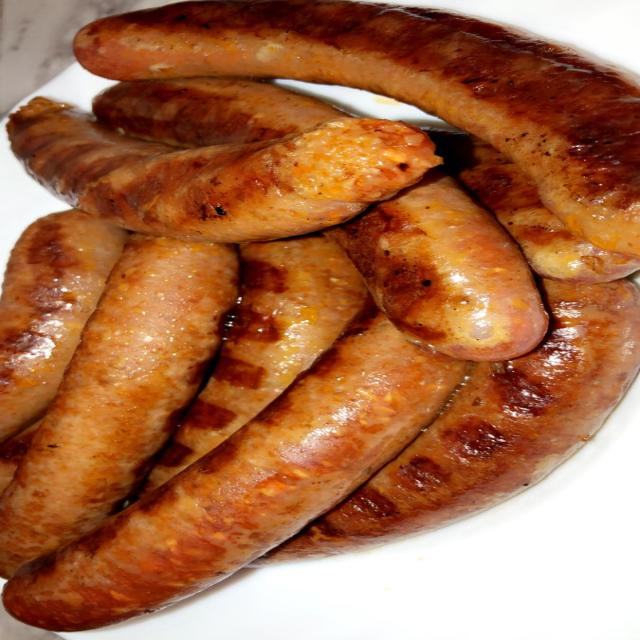sausage: (4, 311, 466, 630), (75, 0, 639, 257), (256, 280, 639, 564), (0, 235, 237, 575), (8, 98, 439, 242), (144, 236, 365, 491), (326, 170, 548, 361), (430, 131, 639, 284), (0, 211, 127, 441), (93, 78, 345, 147), (95, 79, 339, 145), (0, 421, 40, 494)
